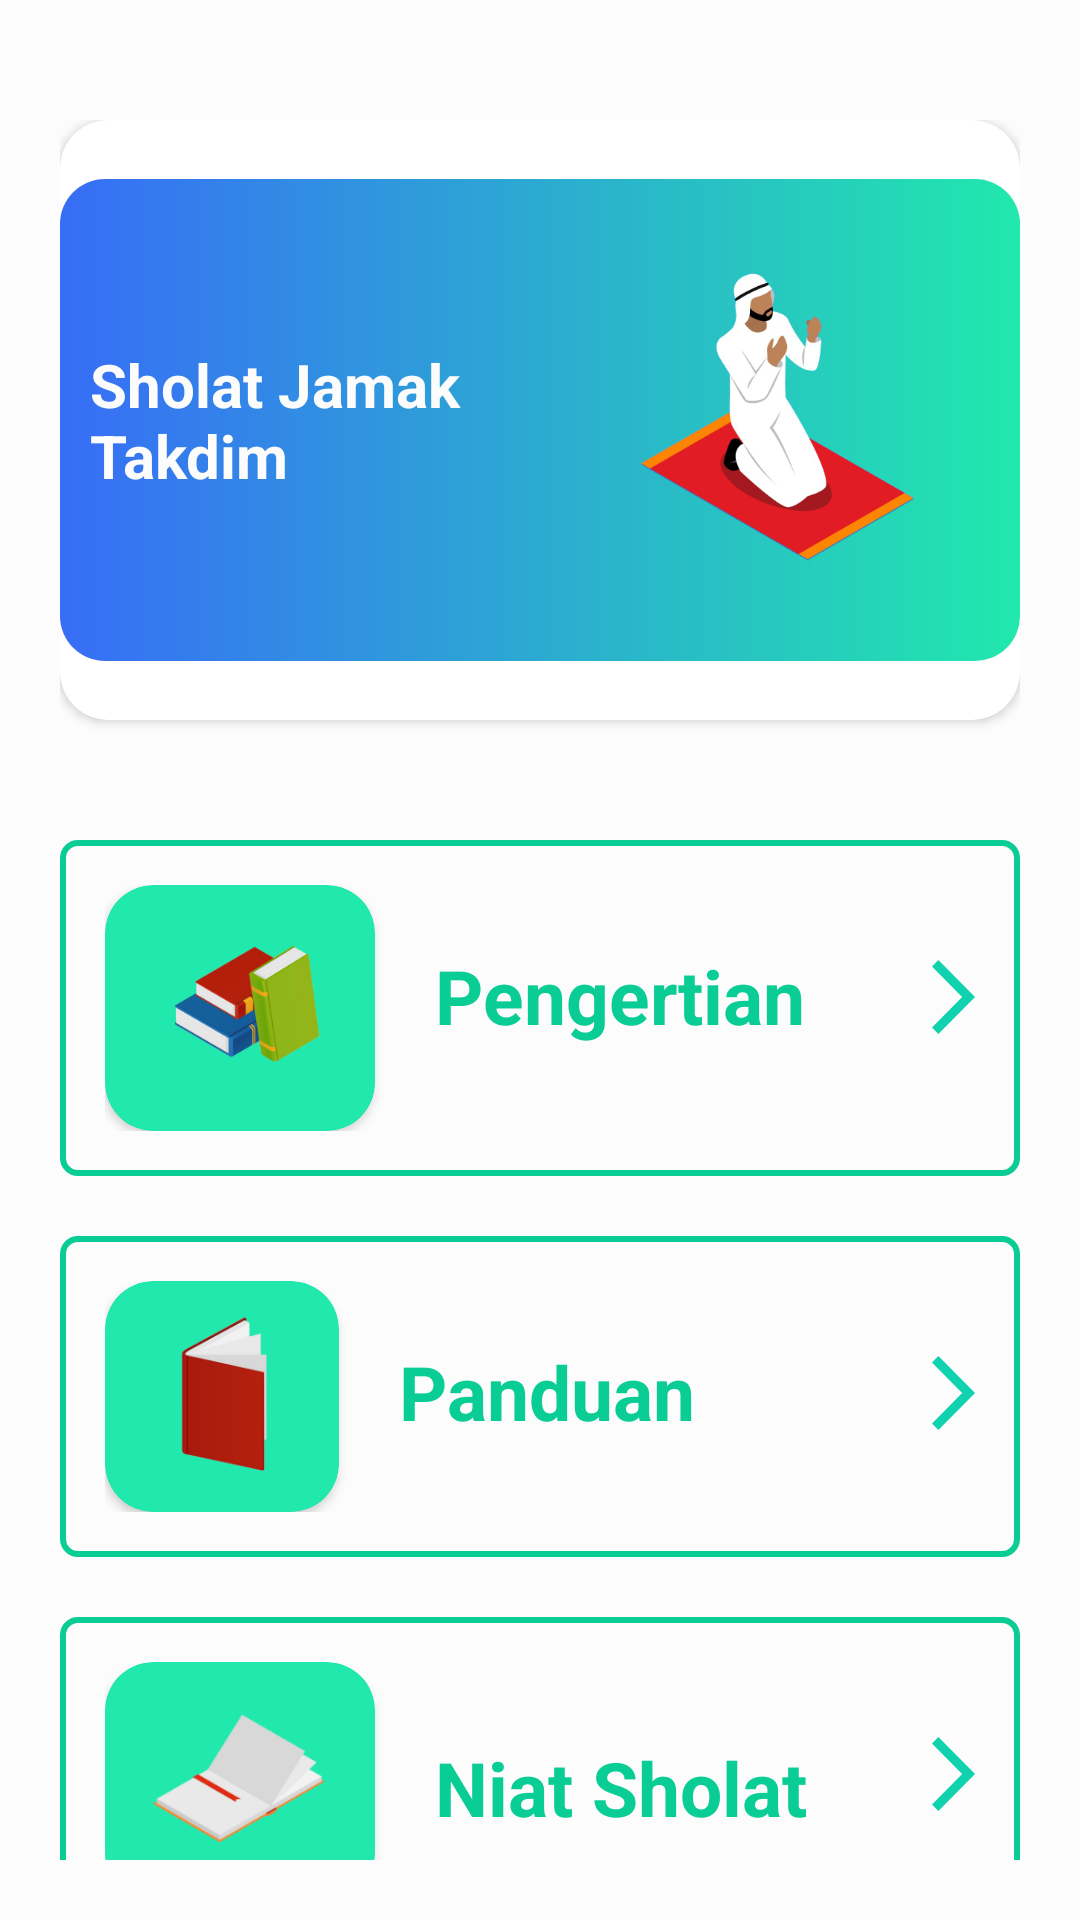

Screen size 1080 × 1920. Icon name, then its center in pixels as (x,y):
book: (247,1004), (224,1394), (239,1779)
right: (953,997), (953,1393), (953,1774)
